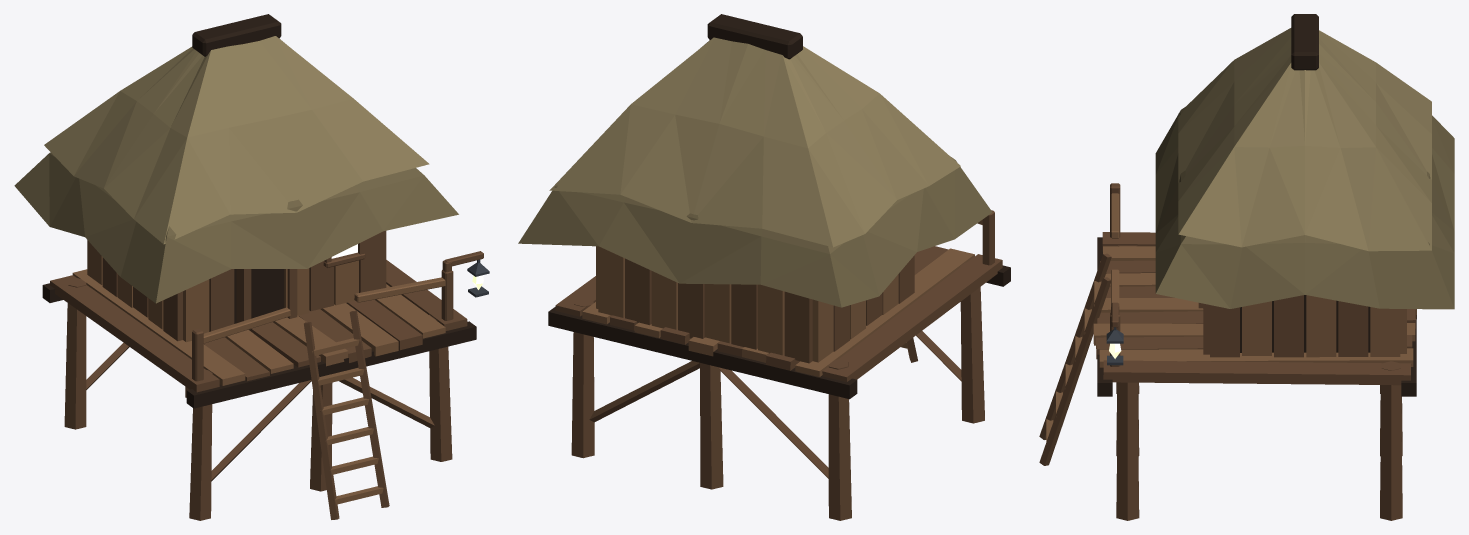
Rendered from Swamp_Hut.fbx.
The picture shows the model from 3 angles, left to right: view 1: azimuth 30°, elevation 25°; view 2: azimuth 150°, elevation 25°; view 3: azimuth 270°, elevation 25°; orthographic projection. The views are drawn at different scales.
Parts seen in each view (by area): view 1: Thatch, Wood, Thatch2, Wood2, Dark; view 2: Thatch, Wood, Thatch2, Wood2, Dark; view 3: Thatch, Wood, Thatch2, Wood2, Dark.
Boxes of the visible parts, x1,y1,x2,y2 form: Thatch: [44, 36, 429, 244]; Wood: [50, 231, 483, 520]; Thatch2: [14, 152, 458, 303]; Wood2: [72, 240, 445, 504]; Dark: [42, 14, 476, 408]; Thatch: [549, 37, 960, 247]; Wood: [555, 210, 1002, 520]; Thatch2: [518, 156, 992, 307]; Wood2: [582, 220, 982, 376]; Dark: [548, 14, 1010, 399]; Thatch: [1178, 28, 1431, 251]; Wood: [1039, 183, 1415, 520]; Thatch2: [1155, 105, 1454, 309]; Wood2: [1046, 193, 1416, 441]; Dark: [1097, 14, 1416, 396].
Size of the model in its own units: 7.47 by 9.15 by 8.2.
